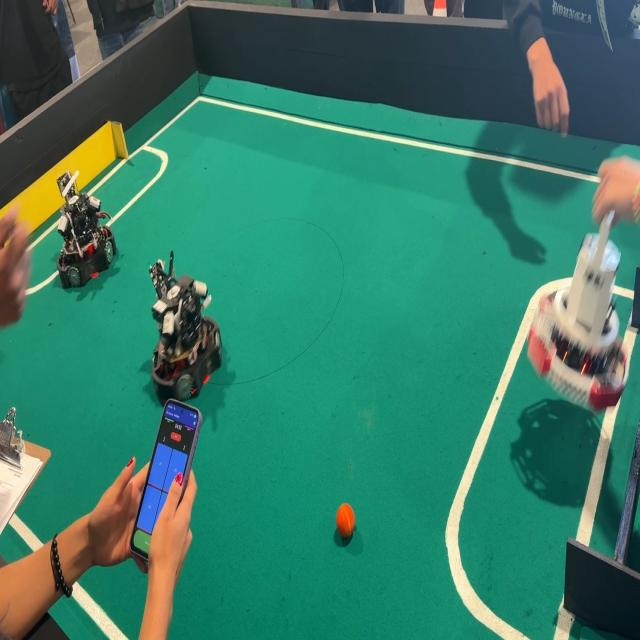Robot: (541, 195, 622, 399), (145, 256, 226, 398), (46, 164, 123, 299)
pelota: (336, 506, 357, 546)
